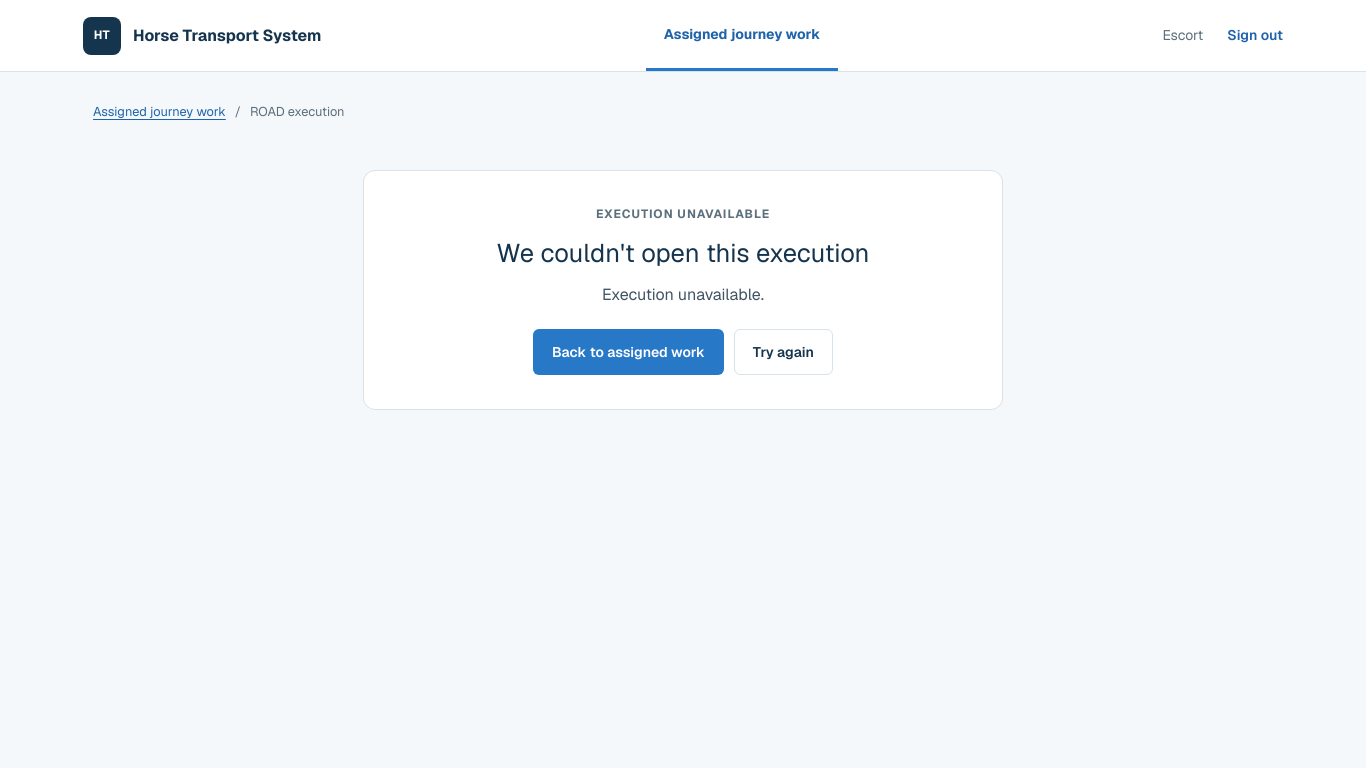
Test: RoadExecutionDetailPage › retries a detail loading error
This screenshot has width=1366, height=768.
Expected: the message shows "Execution unavailable.", [602,284,764,305]
Click the button "Try again" at (784, 352), box [734,329,833,375]
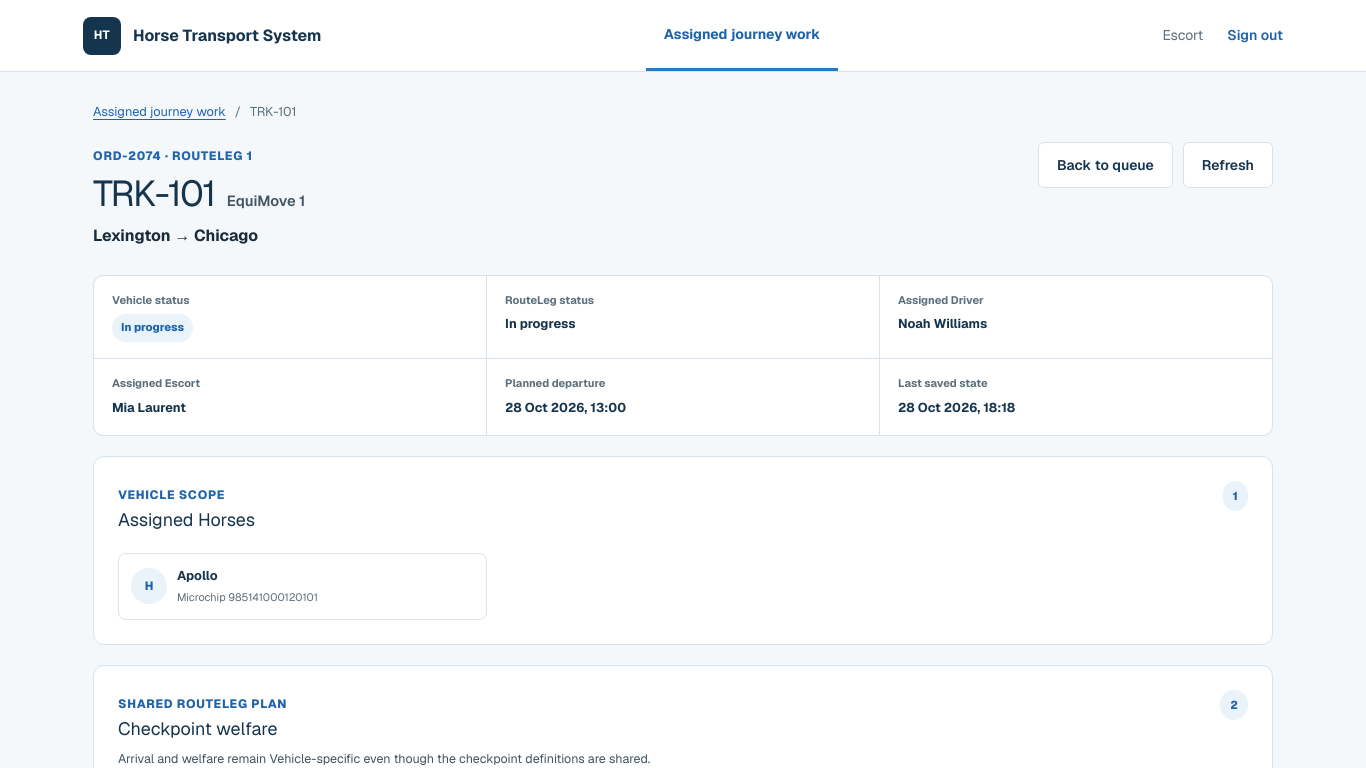
Now the heading "TRK-101 EquiMove 1" is shown, box [93,173,305,214]
